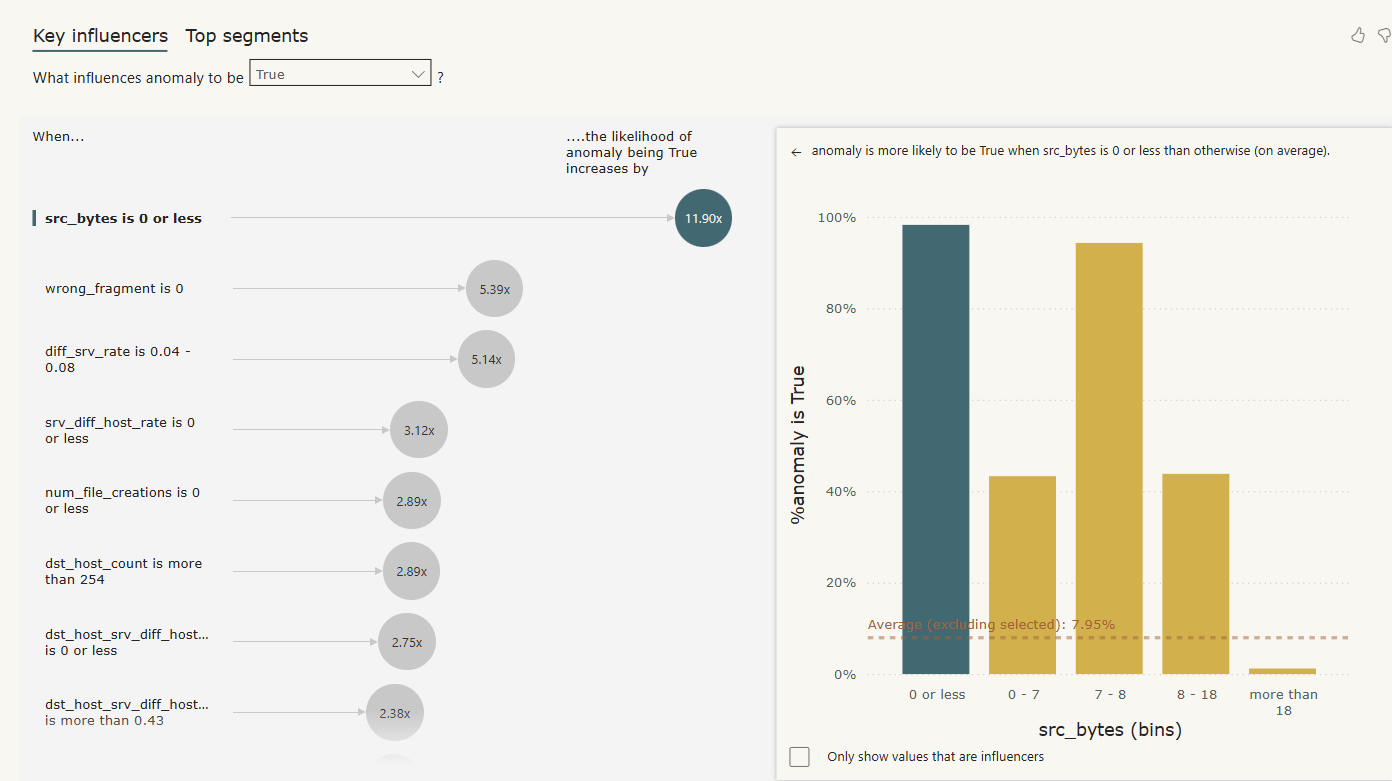

The page's visual inventory and layout, read from the dashboard file:
{"tool":"powerbi","page":{"name":"Top 10 important Features","canvas":[1280,720],"ordinal":2},"visuals":[{"type":"keyDriversVisual","fields":{"Target":["network_clusters.is_anomaly"],"ExplainBy":["network_clusters.duration","network_clusters.srv_diff_host_rate","network_clusters.diff_srv_rate","network_clusters.num_file_creations","network_clusters.src_bytes","network_clusters.num_failed_logins","network_clusters.wrong_fragment","network_clusters.dst_host_srv_diff_host_rate","network_clusters.dst_host_count","network_clusters.urgent"]},"box":[14,9,1266,711],"z":0}]}

Visuals, with their boxes in screenshot pixels (x1, y1, x2, y2), scaled from the page's 1280x720 canvas onto the 1392x781 screenshot:
keyDriversVisual - network_clusters.is_anomaly x network_clusters.duration: 15/10/1391/780
